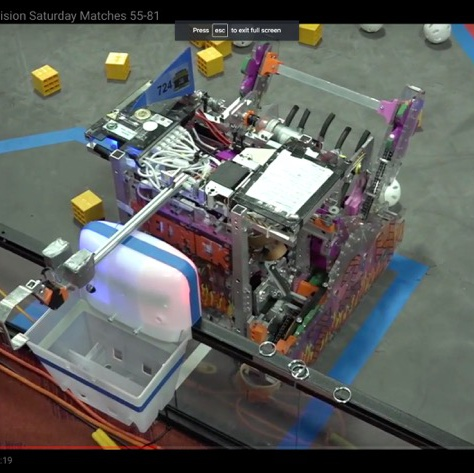robot: (0, 39, 432, 376)
